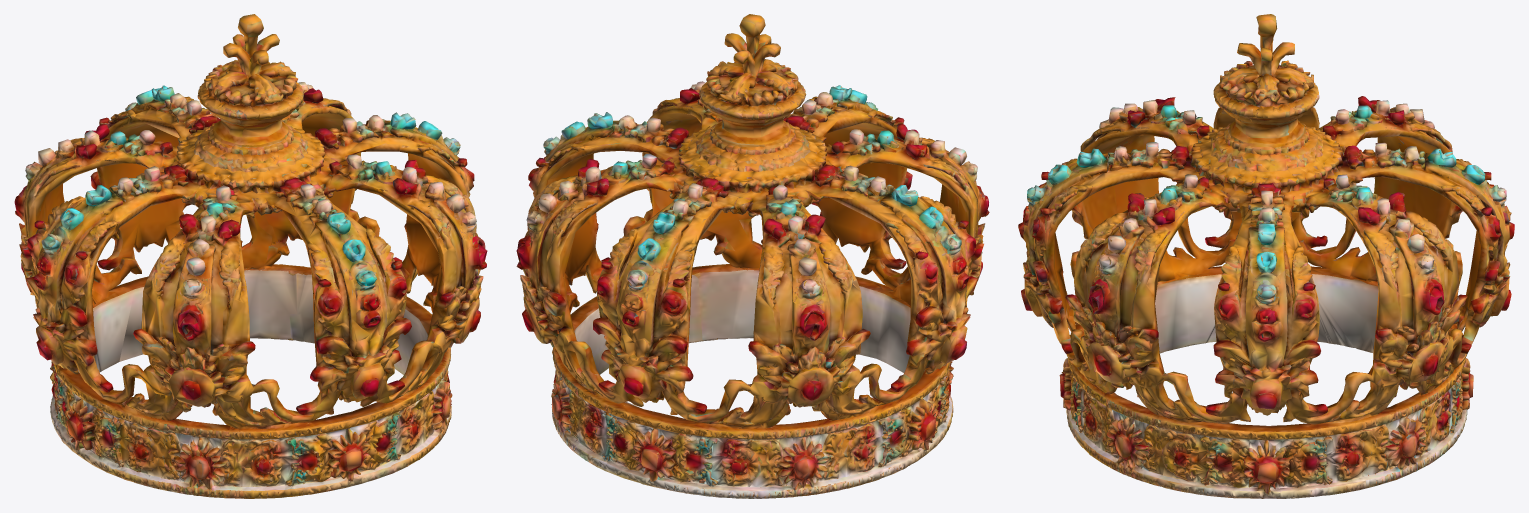
3 renders of one model, left to right at view 1: azimuth 30°, elevation 25°; view 2: azimuth 150°, elevation 25°; view 3: azimuth 270°, elevation 25°, orthographic.
Size of the model in its own units: 1.9 by 1.69 by 1.9.
Materials: 1 (1 with a texture image).
